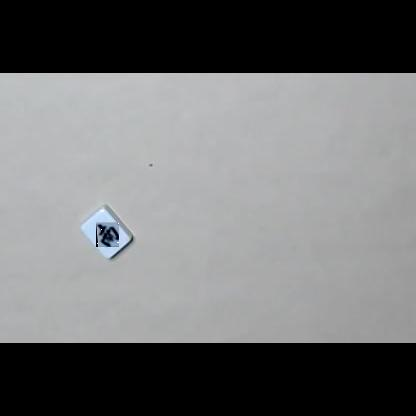2z: (96, 222, 119, 247)
